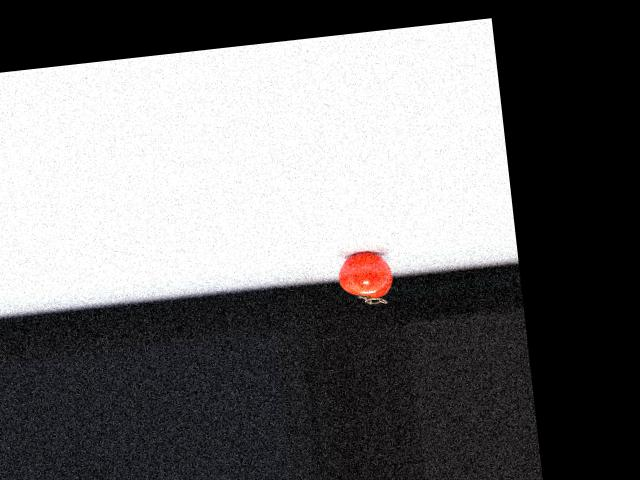tomato: (335, 249, 394, 301)
